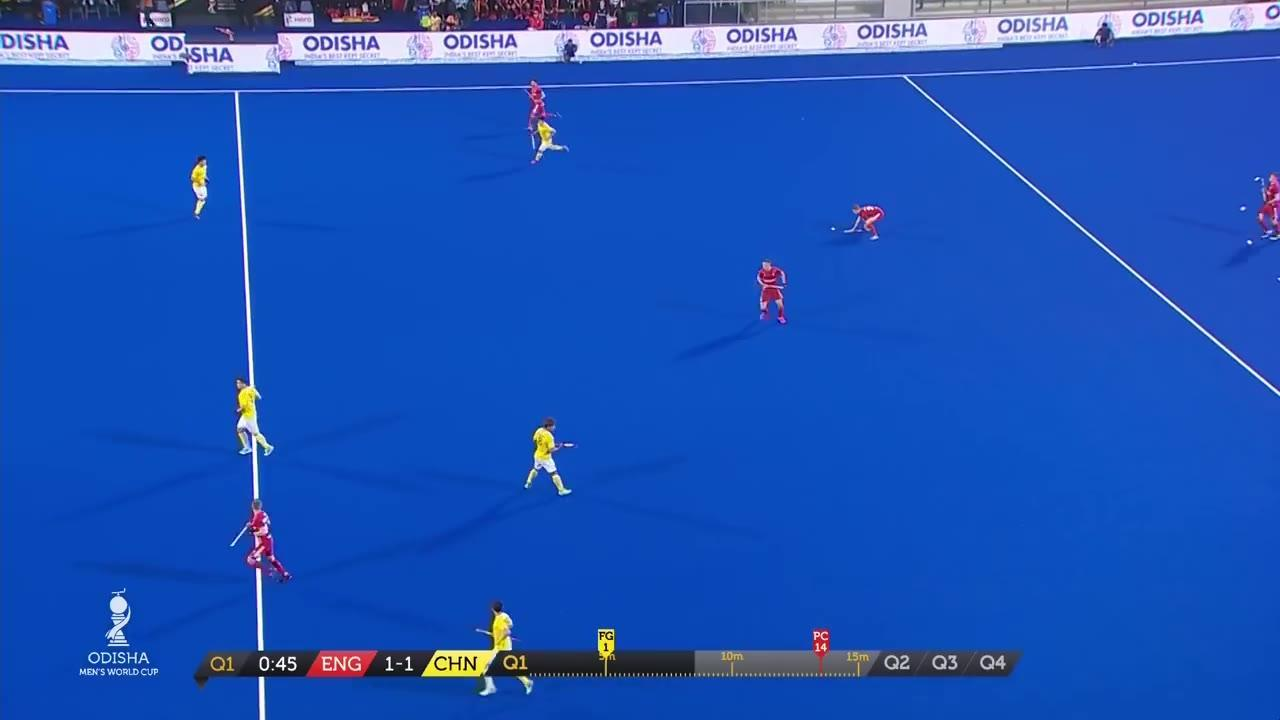ball: (830, 226, 839, 233)
